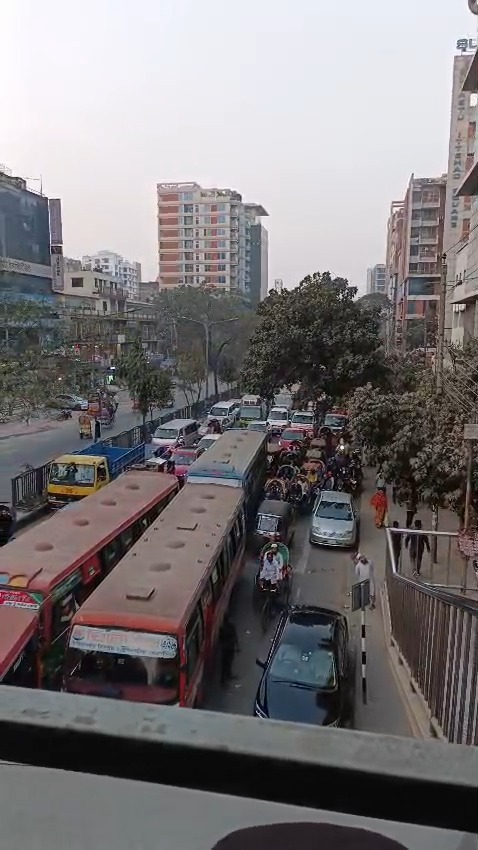Bus: (5, 476, 252, 711)
Truck: (44, 435, 148, 496)
cng: (253, 495, 293, 550)
private car: (260, 595, 355, 730), (302, 485, 365, 550)
